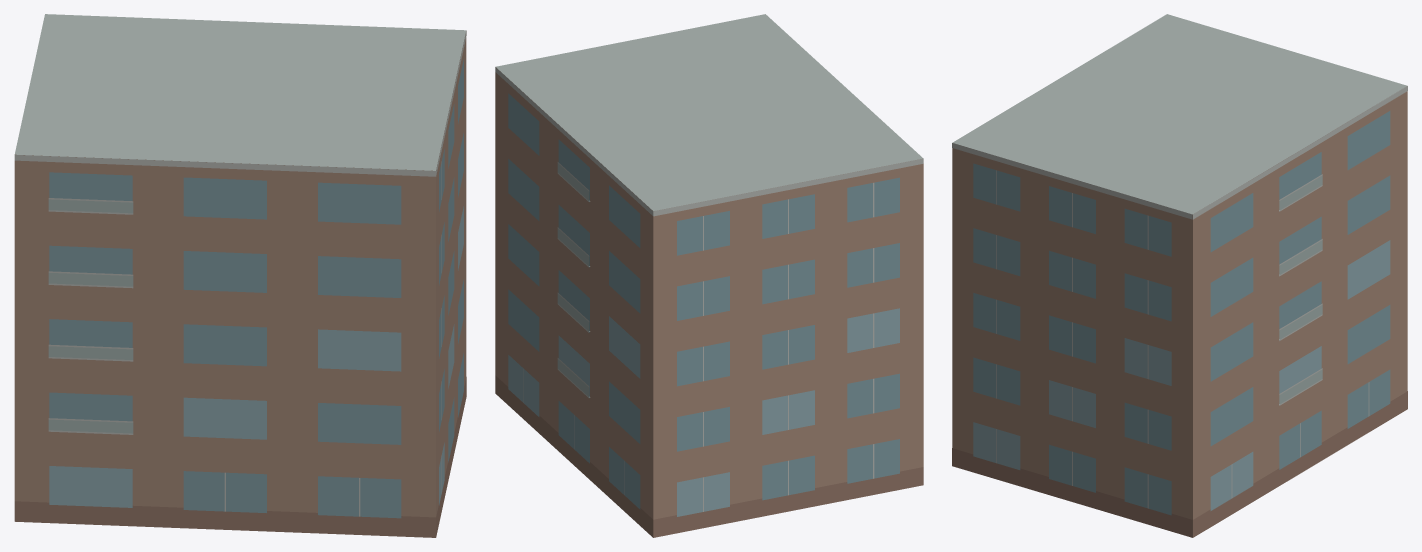
The model's file is residential-39cbfff3-c4d1-449f-824e-003fd3ac39f2.glb.
The picture shows the model from 3 angles, left to right: view 1: azimuth 30°, elevation 25°; view 2: azimuth 150°, elevation 25°; view 3: azimuth 270°, elevation 25°; orthographic projection. The views are drawn at different scales.
Visible parts, largest first — view 1: residential-39cbfff3-c4d1-449f-824e-003fd3ac39f2.tmp; view 2: residential-39cbfff3-c4d1-449f-824e-003fd3ac39f2.tmp; view 3: residential-39cbfff3-c4d1-449f-824e-003fd3ac39f2.tmp.
Part boxes in pixels (x1,y1,x2,y2): residential-39cbfff3-c4d1-449f-824e-003fd3ac39f2.tmp: (14,14,466,537); residential-39cbfff3-c4d1-449f-824e-003fd3ac39f2.tmp: (495,14,923,537); residential-39cbfff3-c4d1-449f-824e-003fd3ac39f2.tmp: (952,14,1407,537).
Bounding box in the file's own units: 20.29 × 15.25 × 19.48.
